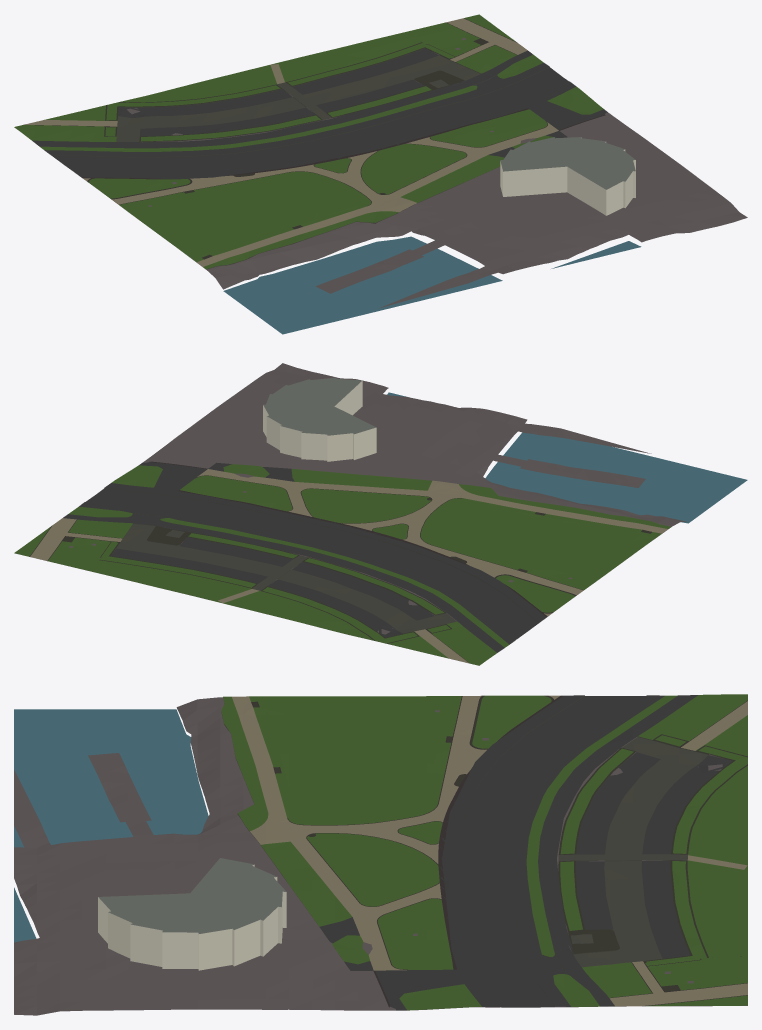
3 views of the same model, one above another, from view 1: azimuth 30°, elevation 25°; view 2: azimuth 150°, elevation 25°; view 3: azimuth 270°, elevation 25° (orthographic). The views are drawn at different scales.
Parts seen in each view (by area): view 1: c_m05_p13; view 2: c_m05_p13; view 3: c_m05_p13.
Boxes of the visible parts, x1,y1,x2,y2 form: c_m05_p13: (14,14,747,334); c_m05_p13: (14,363,747,665); c_m05_p13: (14,694,747,1015).
Bounding box in the file's own units: 128 × 9.34 × 128.
